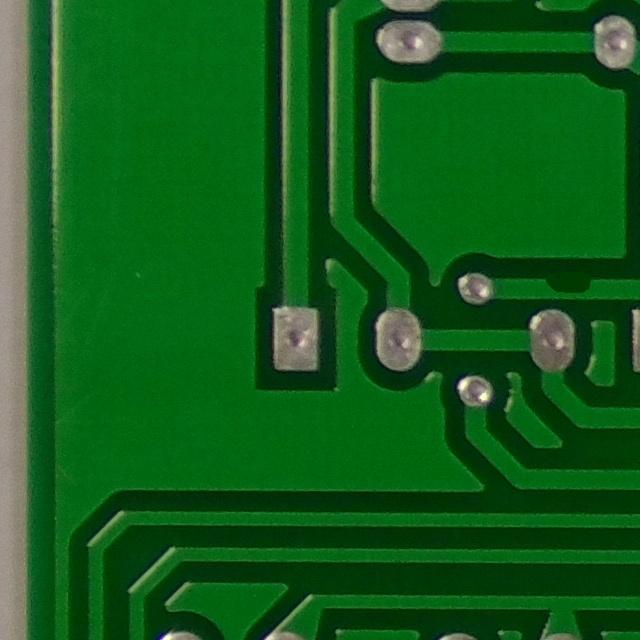mouse_bite: (527, 259, 604, 310)
